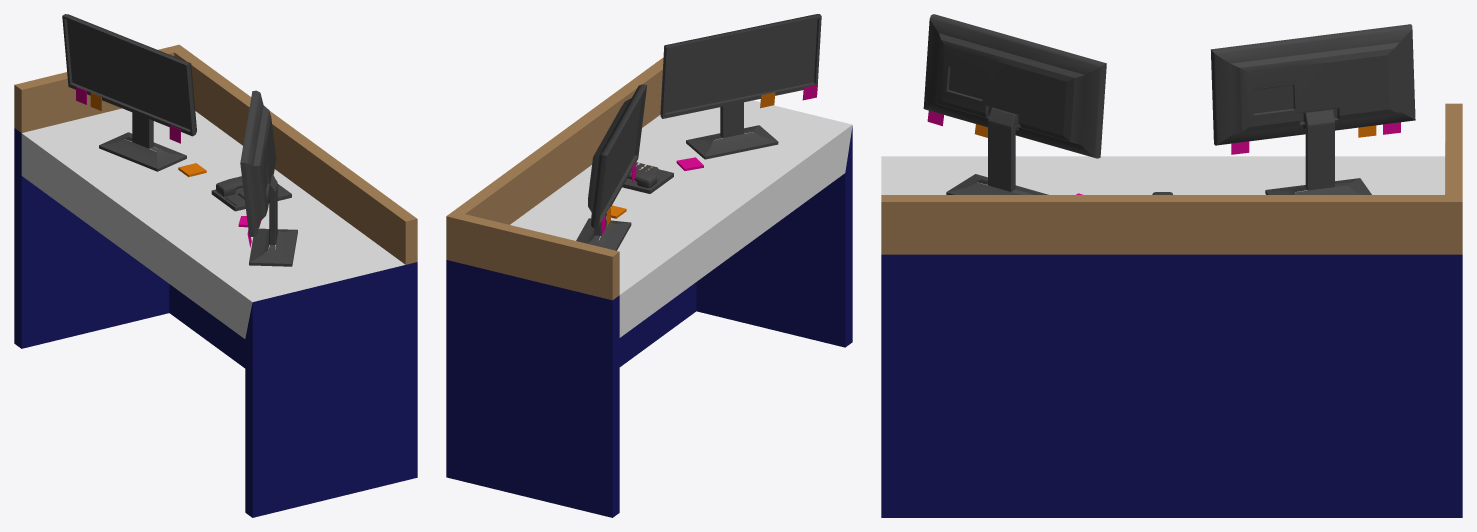
The model's file is acceuilBureau.fbx.
The picture shows the model from 3 angles, left to right: view 1: azimuth 30°, elevation 25°; view 2: azimuth 150°, elevation 25°; view 3: azimuth 270°, elevation 25°; orthographic projection. The views are drawn at different scales.
Visible parts, largest first — view 1: acceuilBureau; view 2: acceuilBureau; view 3: acceuilBureau.
Part boxes in pixels (x1,y1,x2,y2): acceuilBureau: (14, 14, 417, 517); acceuilBureau: (446, 14, 852, 517); acceuilBureau: (881, 14, 1462, 517).
Size of the model in its own units: 0.8 by 1.56 by 2.
